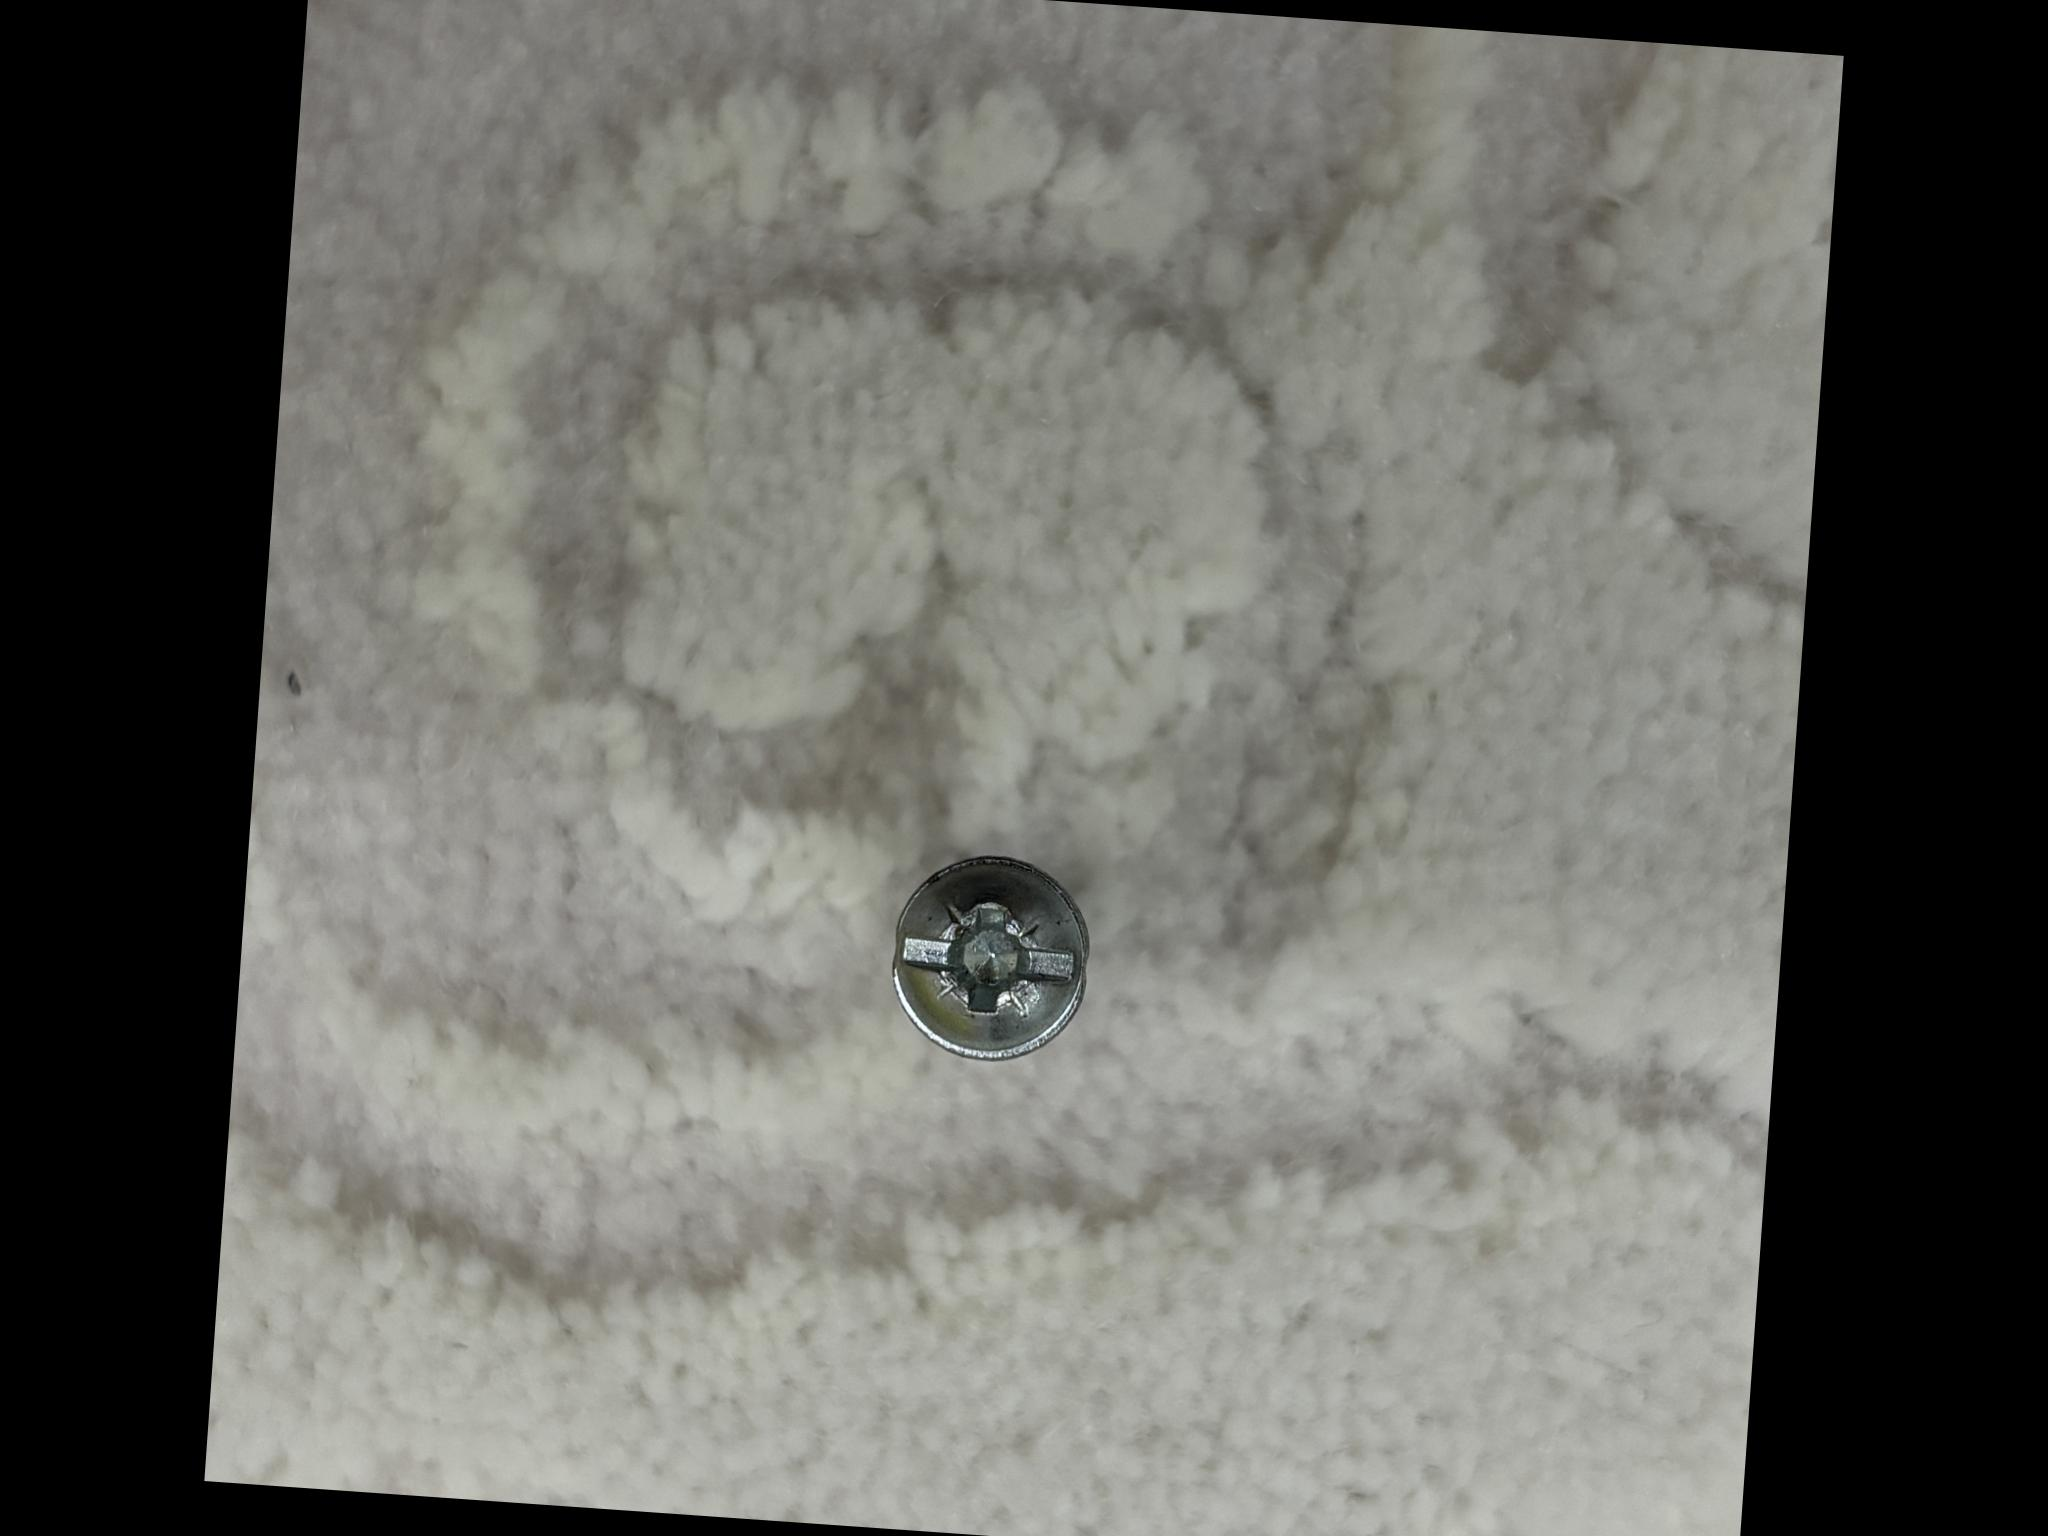PZ: (839, 942, 1042, 1137)
